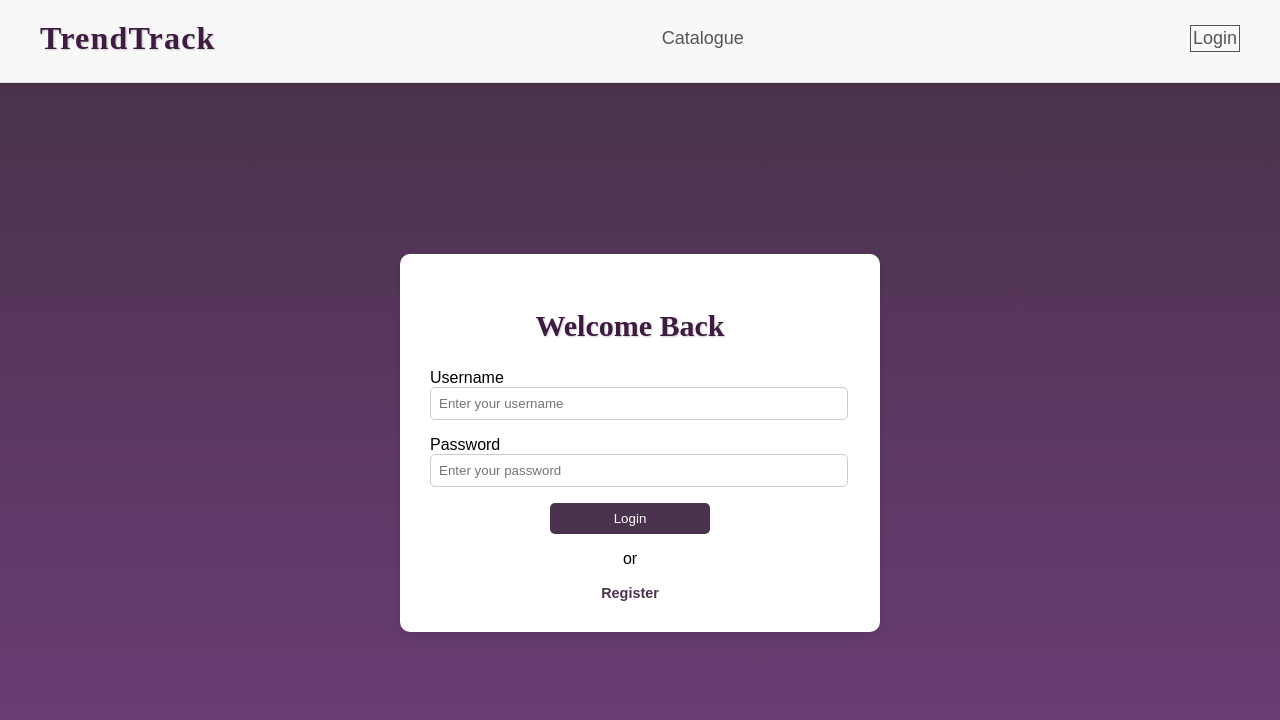
Test case: Authentication Flow › Switches to registration form
Click the text "Register" at coordinates (630, 593), box [601,585,659,601]
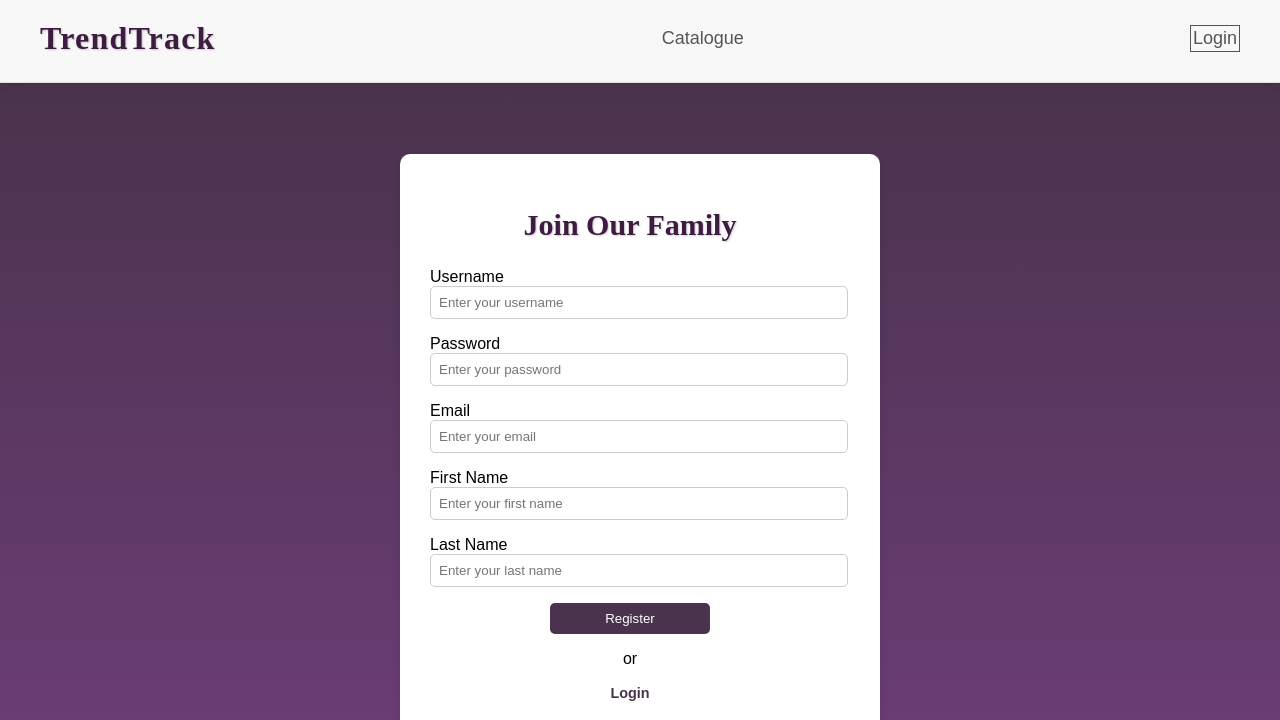
Now the heading "Join Our Family" is shown, box [524,208,736,241]
Now the field with placeholder "Enter your email" is shown, box [430,420,848,453]
Now the field with placeholder "Enter your first name" is shown, box [430,487,848,520]
